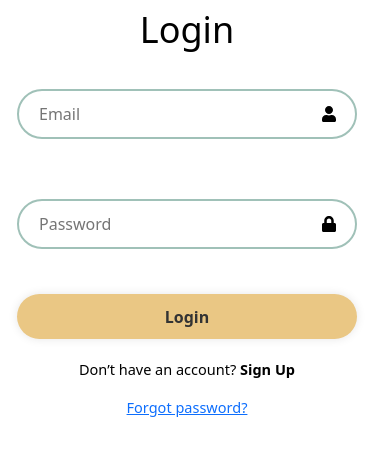
Test: <Login /> › shows generic error message on wrong credentials
Type "bad@example.com" into the field with placeholder "Email" at (187, 114), box [17,89,357,139]
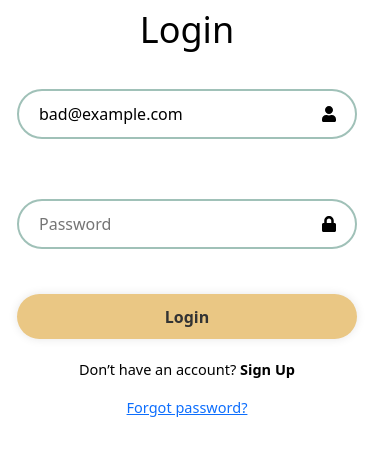
Type "wrong" into the password field with placeholder "Password" at (187, 224), box [17,199,357,249]
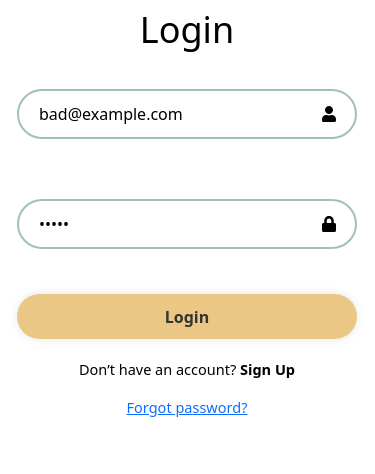
Click the button "Login" at (187, 317), box [17,294,357,339]
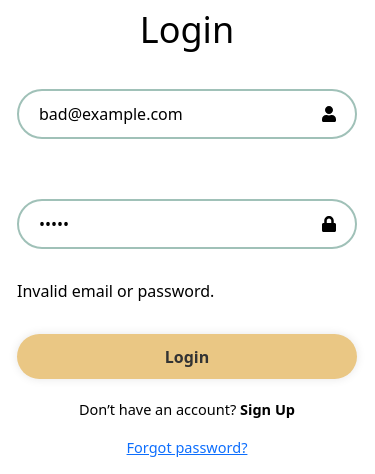
Expected: the text "Invalid email or password." is shown, [17,280,214,302]
